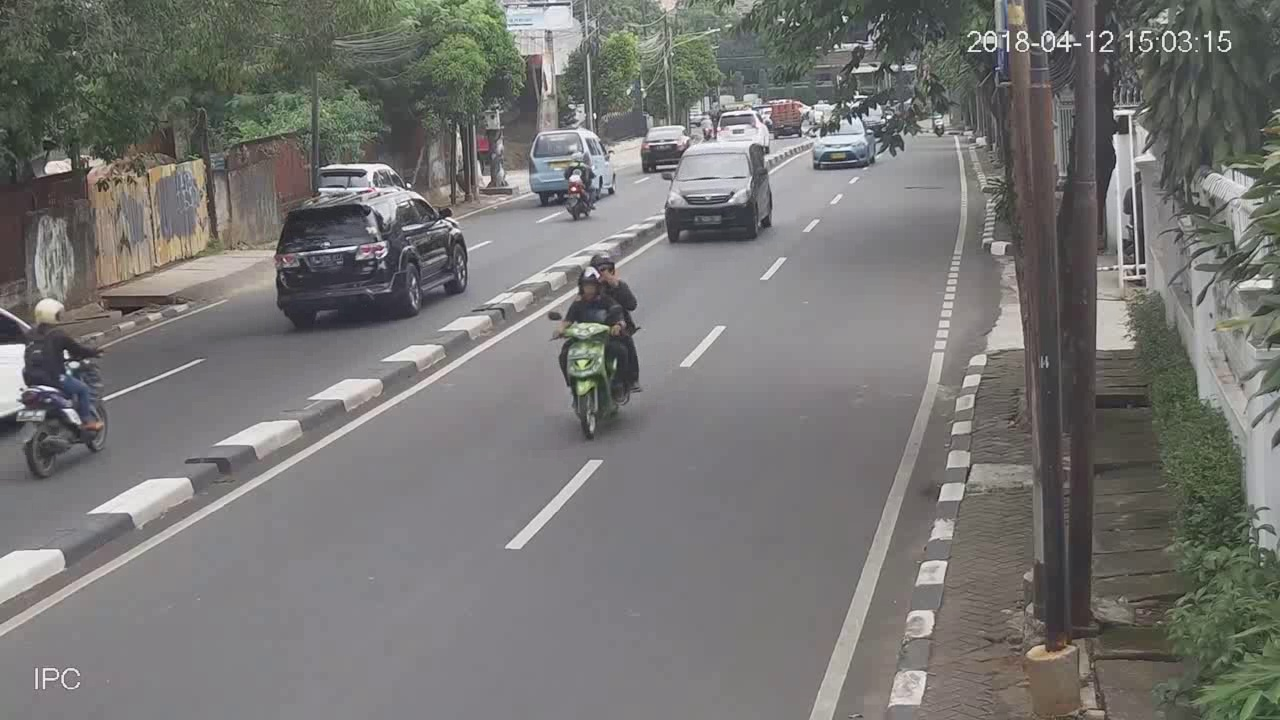car: (271, 191, 470, 327), (664, 144, 775, 243), (527, 125, 615, 204), (809, 119, 877, 168), (639, 122, 689, 169), (715, 107, 766, 146)
motorcycle: (549, 249, 647, 438), (16, 296, 111, 479), (564, 146, 599, 221)
